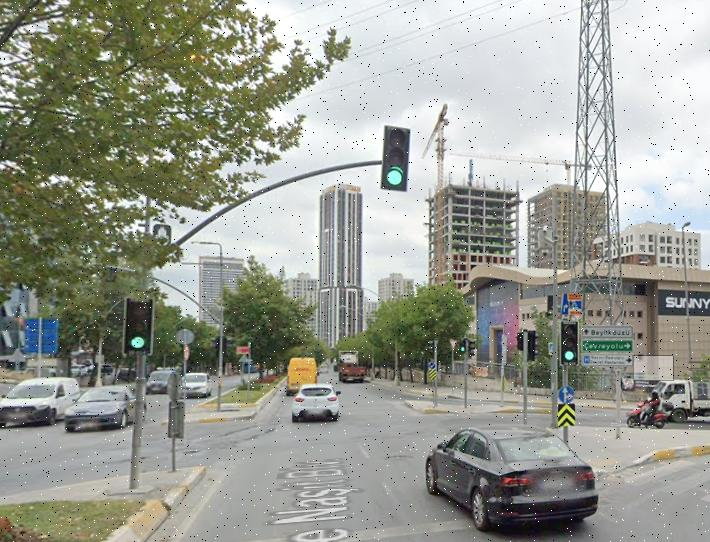greenlight: (122, 298, 153, 354), (383, 125, 409, 190), (563, 320, 581, 363)
